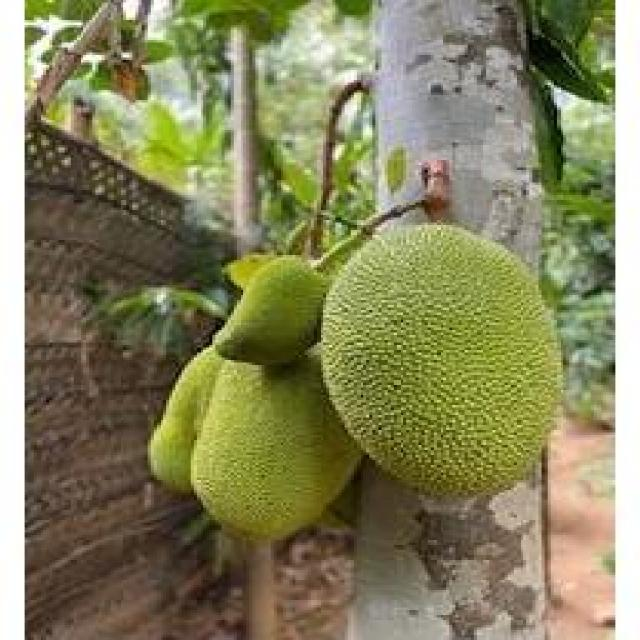Fruit: (304, 205, 584, 523), (176, 335, 382, 565)
